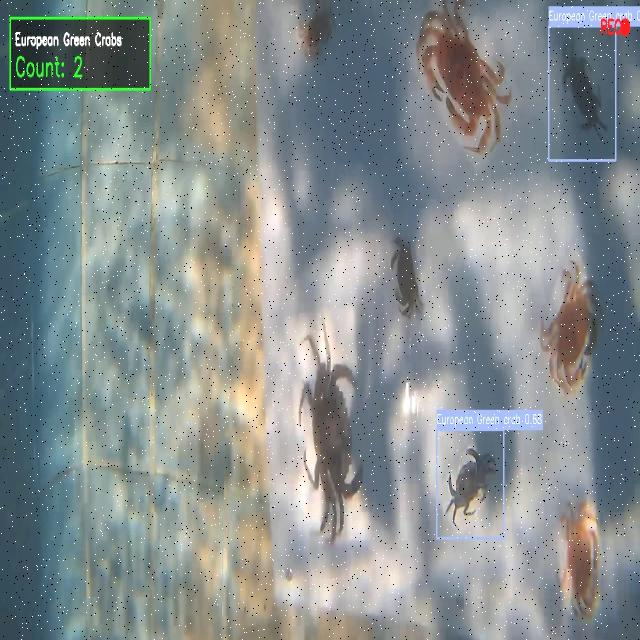European_Green_Crab: (290, 297, 366, 553), (438, 423, 507, 539), (551, 35, 612, 157)
